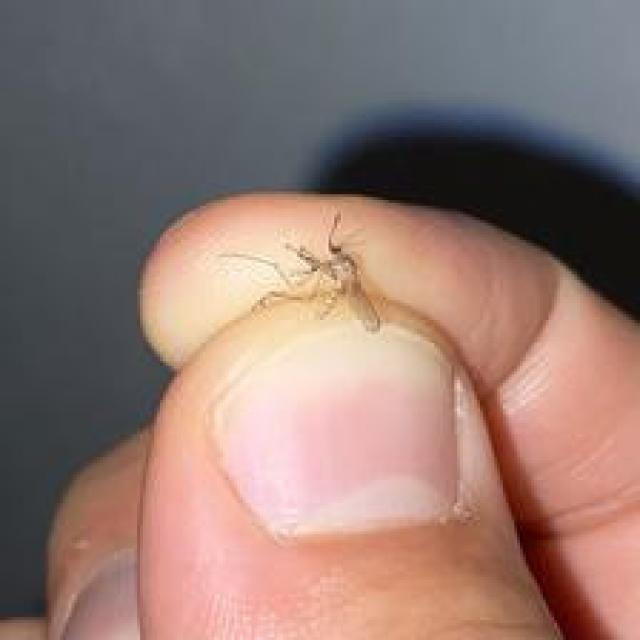Culex: (217, 209, 383, 334)
